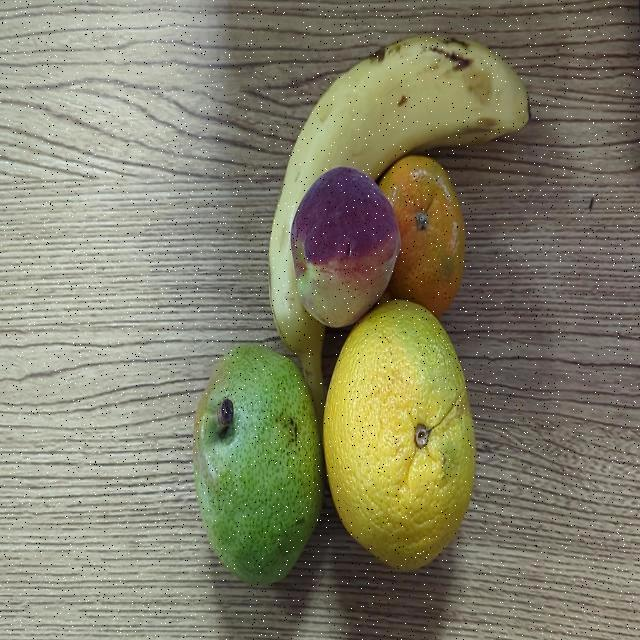Jeruk: (326, 315, 479, 577)
Jeruk Mandarin: (376, 154, 470, 309)
Persik: (293, 192, 398, 320)
Pir: (180, 331, 321, 575)
Pisang: (262, 19, 537, 296)
